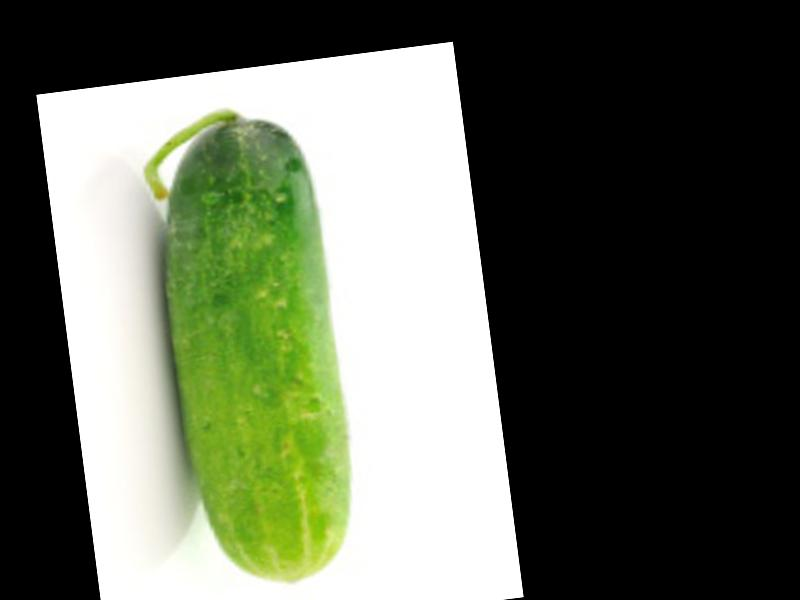Cucumber: (138, 103, 366, 599)
